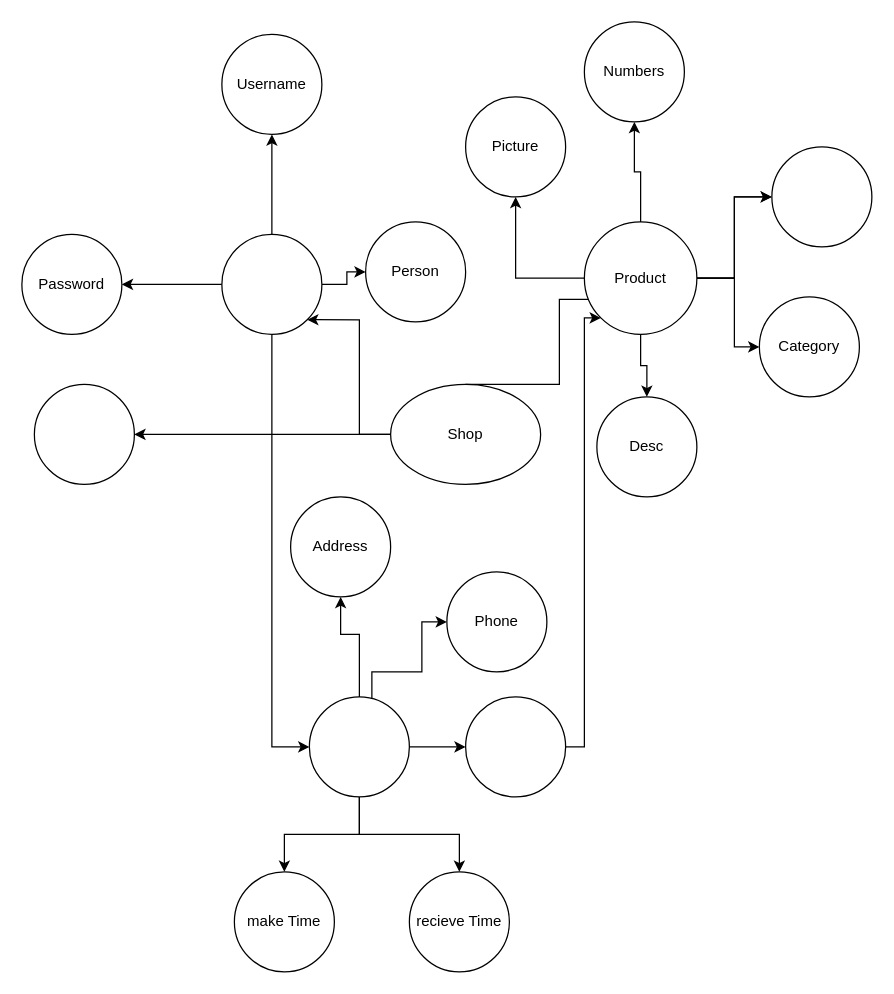
Image size: 894x994. Some labels were removed from this diagram. The shapes that lost their labels are listed below. From the top down, each one's box as (x1, y1, x2, y2) in pixels, then its label:
(771, 146, 872, 247): Price
(221, 233, 322, 334): Customer
(33, 383, 134, 484): Admin
(308, 696, 409, 797): Card
(464, 696, 566, 797): Product List
